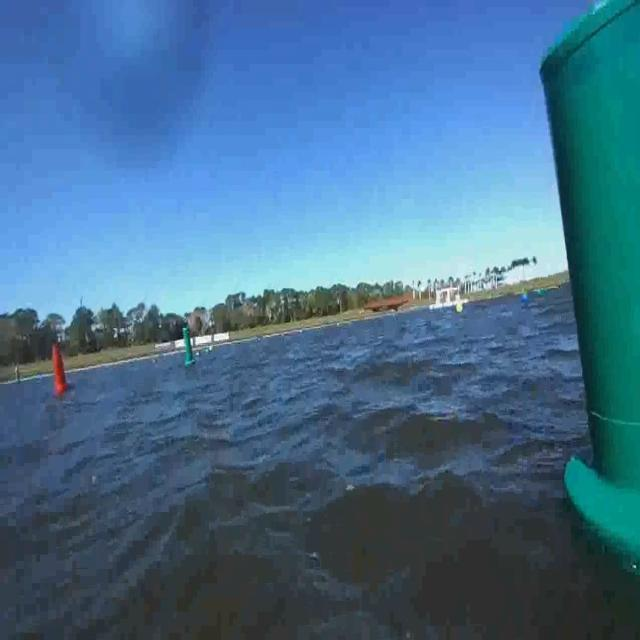green-column-buoy: (523, 1, 640, 604), (186, 314, 200, 364)
red-column-buoy: (51, 322, 69, 411)
